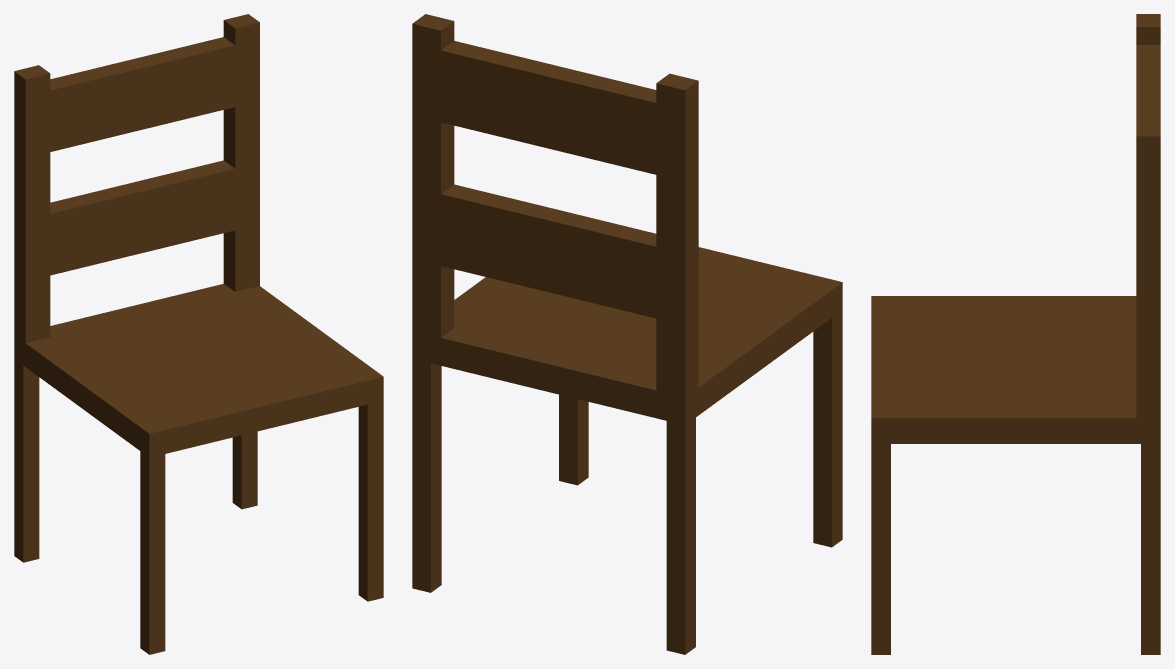
File: Chair.fbx
3 renders of one model, left to right at view 1: azimuth 30°, elevation 25°; view 2: azimuth 150°, elevation 25°; view 3: azimuth 270°, elevation 25°, orthographic. The views are drawn at different scales.
Parts seen in each view (by area): view 1: Chair; view 2: Chair; view 3: Chair.
Part boxes in pixels (box(x1,y1,x2,y2)): Chair: box(14, 14, 383, 654); Chair: box(412, 14, 842, 654); Chair: box(871, 14, 1160, 654).
Bounding box in the file's own units: 414 × 818 × 414.
